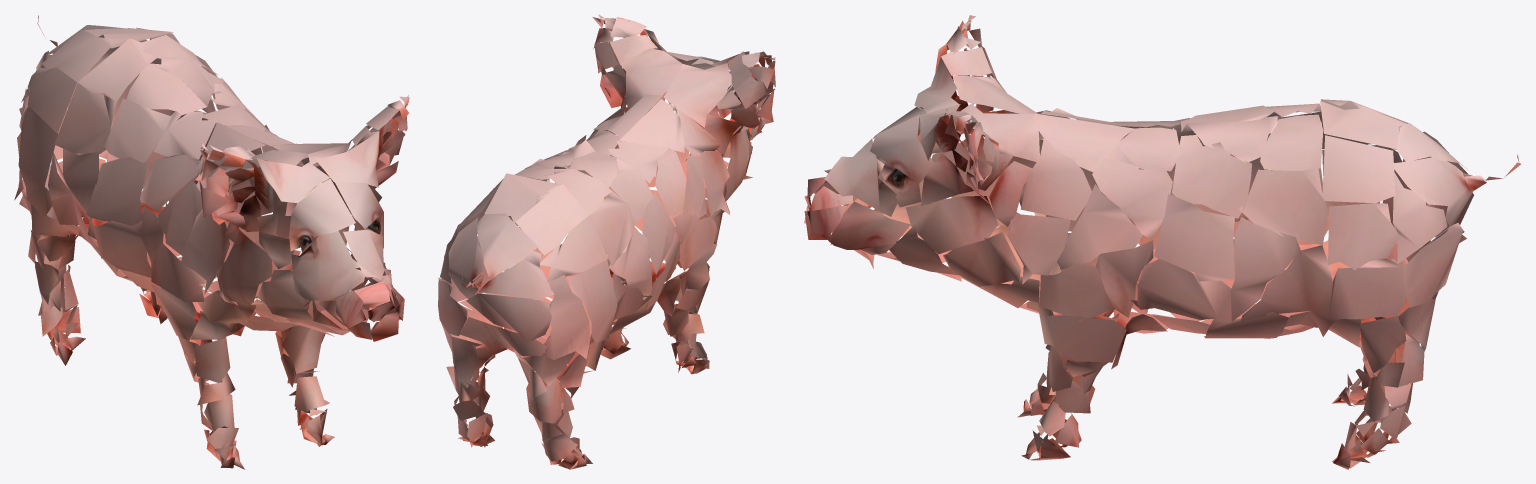
Rendered from piglet.glb.
3 views of the same model, side by side, from view 1: azimuth 30°, elevation 25°; view 2: azimuth 150°, elevation 25°; view 3: azimuth 270°, elevation 25° (orthographic). The views are drawn at different scales.
Parts seen in each view (by area): view 1: Mesh_0; view 2: Mesh_0; view 3: Mesh_0.
Part boxes in pixels (box(x1,y1,x2,y2)): Mesh_0: box(14, 15, 409, 469); Mesh_0: box(438, 14, 775, 469); Mesh_0: box(804, 15, 1520, 469).
Bounding box in the file's own units: 0.2465 × 0.3963 × 0.6895.
Materials: 1 (1 with a texture image).
